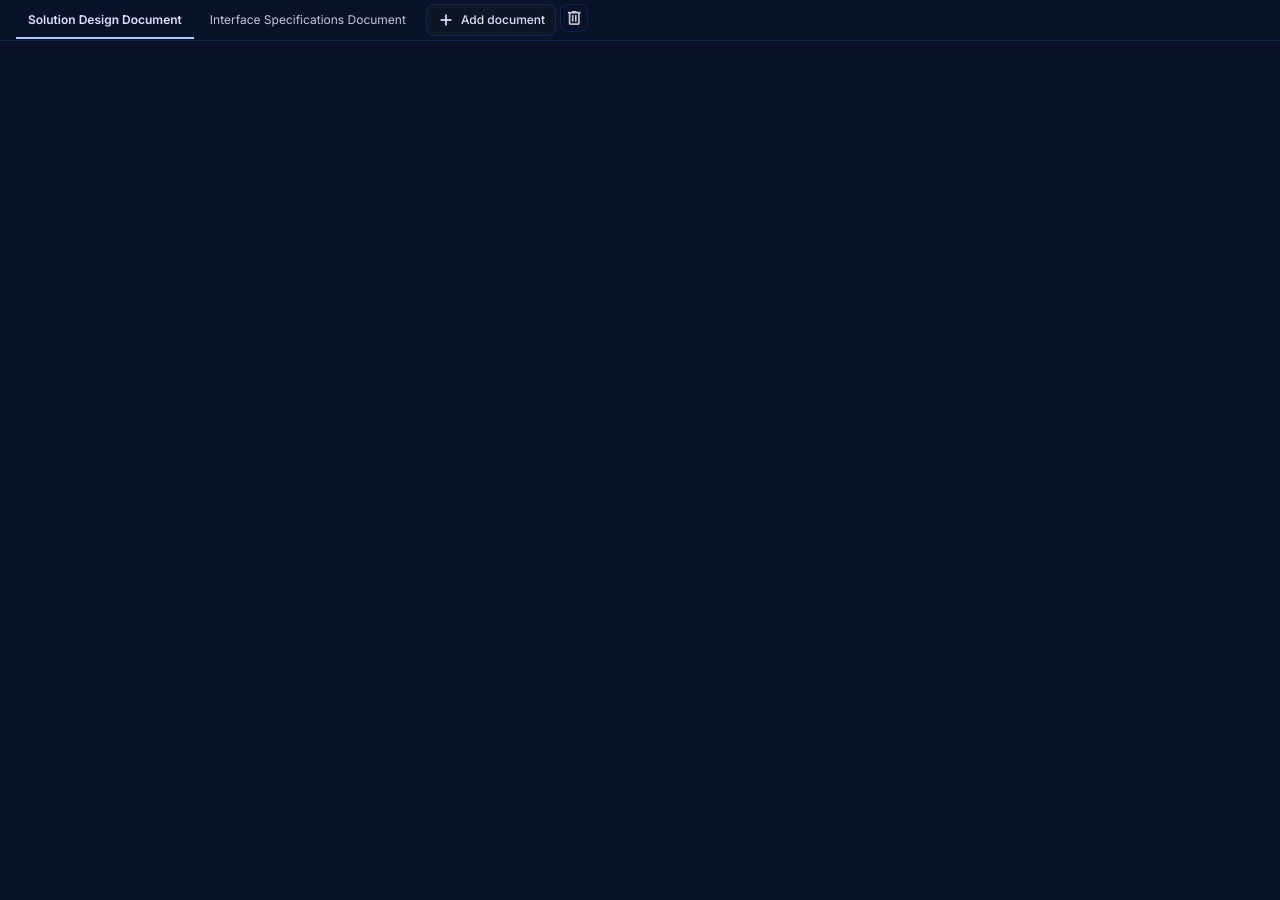
Test: single-document layouts already in the project are not offered and ask no name
The width and height of the screenshot is (1280, 900).
What coordinates should you click on to do the following:
click the button "Add document"
I would click on:
 (491, 20)
Its box is x1=426 y1=4 x2=556 y2=36.
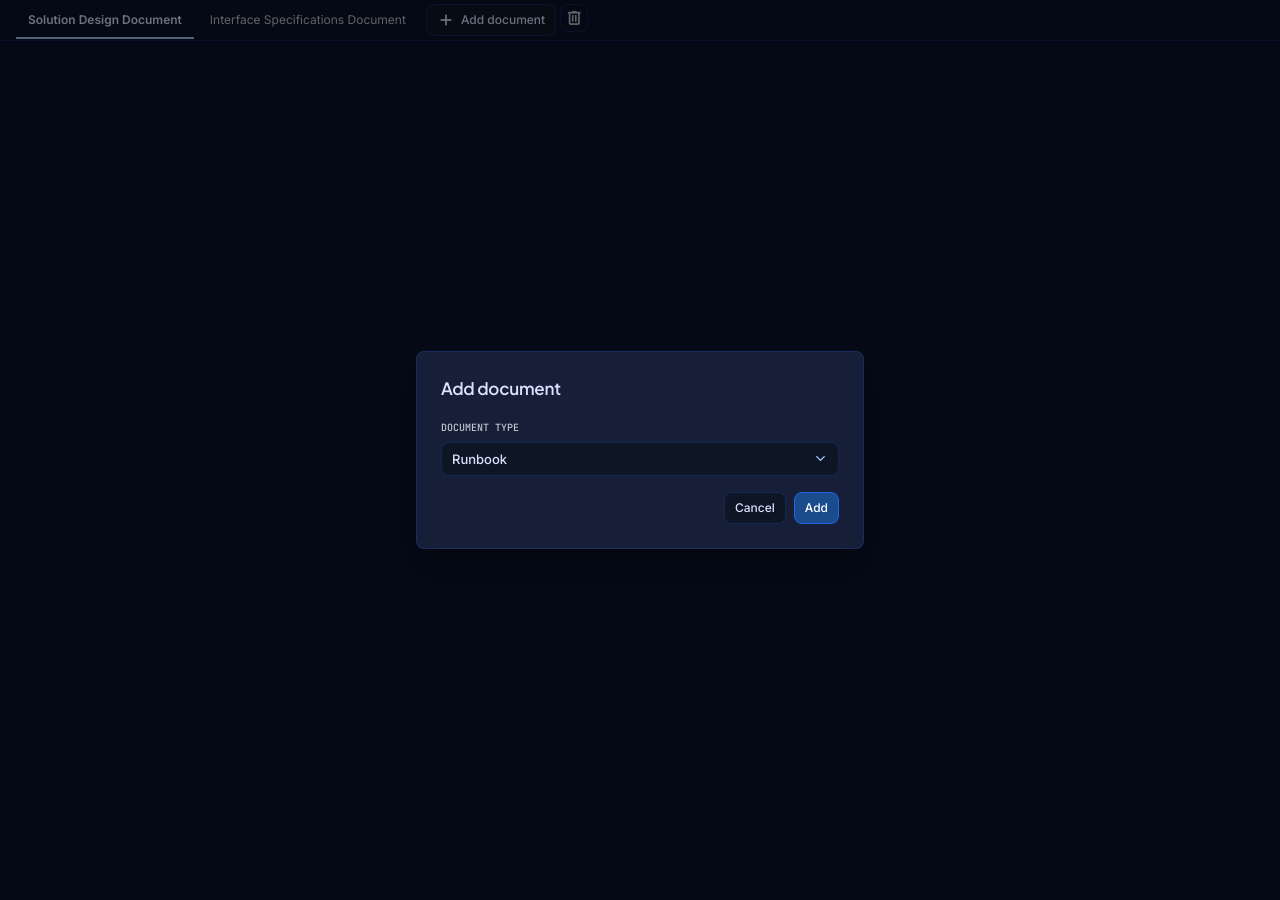
What coordinates should you click on to do the following:
click the button with aria-label "Document type"
I would click on:
 (480, 459)
Its box is x1=441 y1=442 x2=839 y2=476.
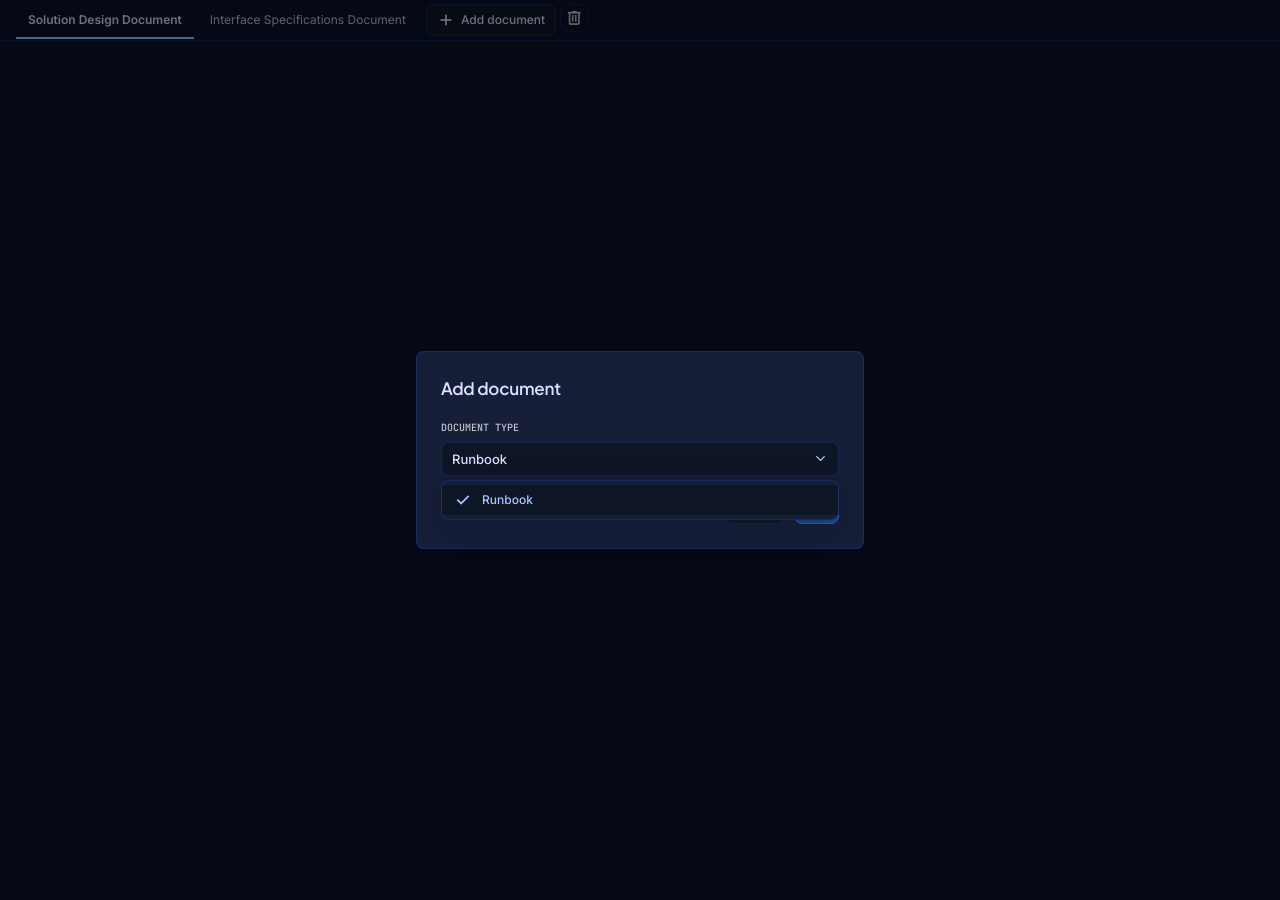
Result: the number of options is 1 at x1=442 y1=485 x2=838 y2=515
